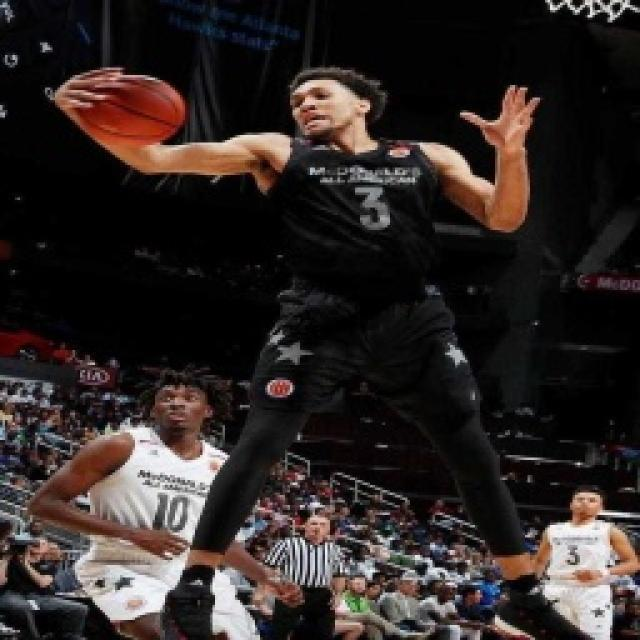rim: (67, 58, 192, 157)
